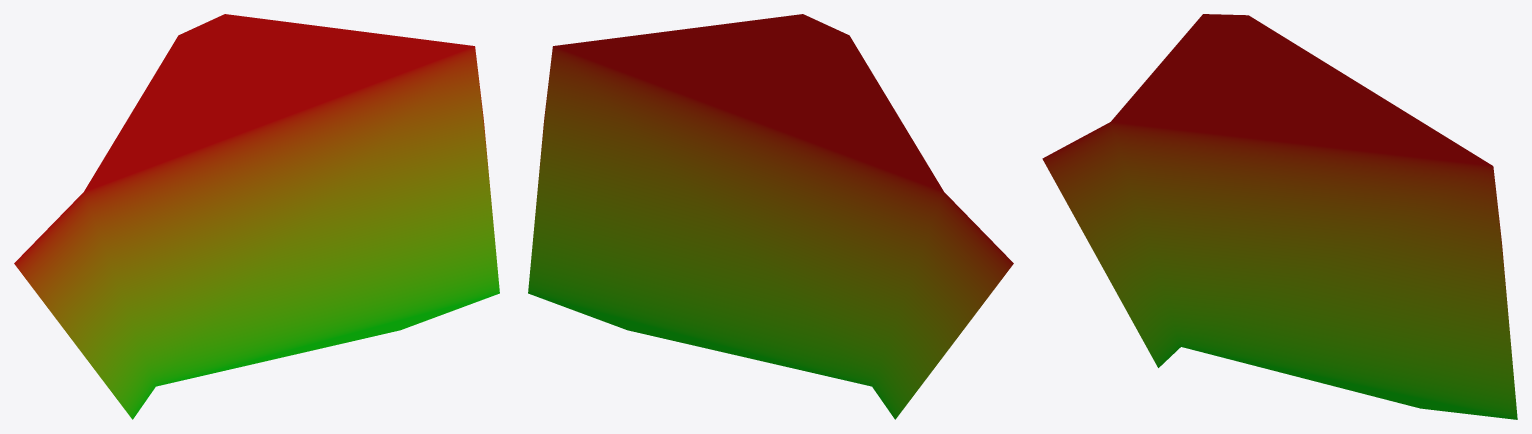
The model's file is Thatching Grass_LOD4_Var8_uddmcgbia.fbx.
3 renders of one model, left to right at view 1: azimuth 30°, elevation 25°; view 2: azimuth 150°, elevation 25°; view 3: azimuth 330°, elevation 25°, orthographic. The views are drawn at different scales.
Parts seen in each view (by area): view 1: _a0b6_Var8_LOD4; view 2: _a0b6_Var8_LOD4; view 3: _a0b6_Var8_LOD4.
Boxes of the visible parts, bbox=[...] form: _a0b6_Var8_LOD4: bbox=[14, 14, 499, 419]; _a0b6_Var8_LOD4: bbox=[528, 14, 1013, 419]; _a0b6_Var8_LOD4: bbox=[1042, 14, 1517, 419].
Size of the model in its own units: 26.27 by 19.81 by 9.54e-07.
